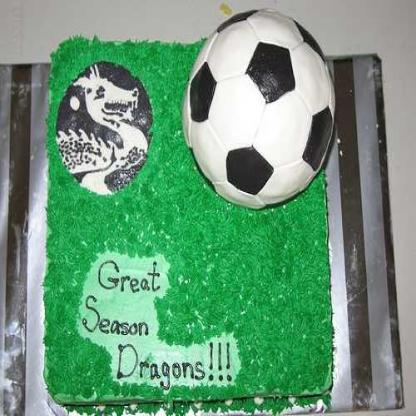ball: (185, 9, 337, 210)
